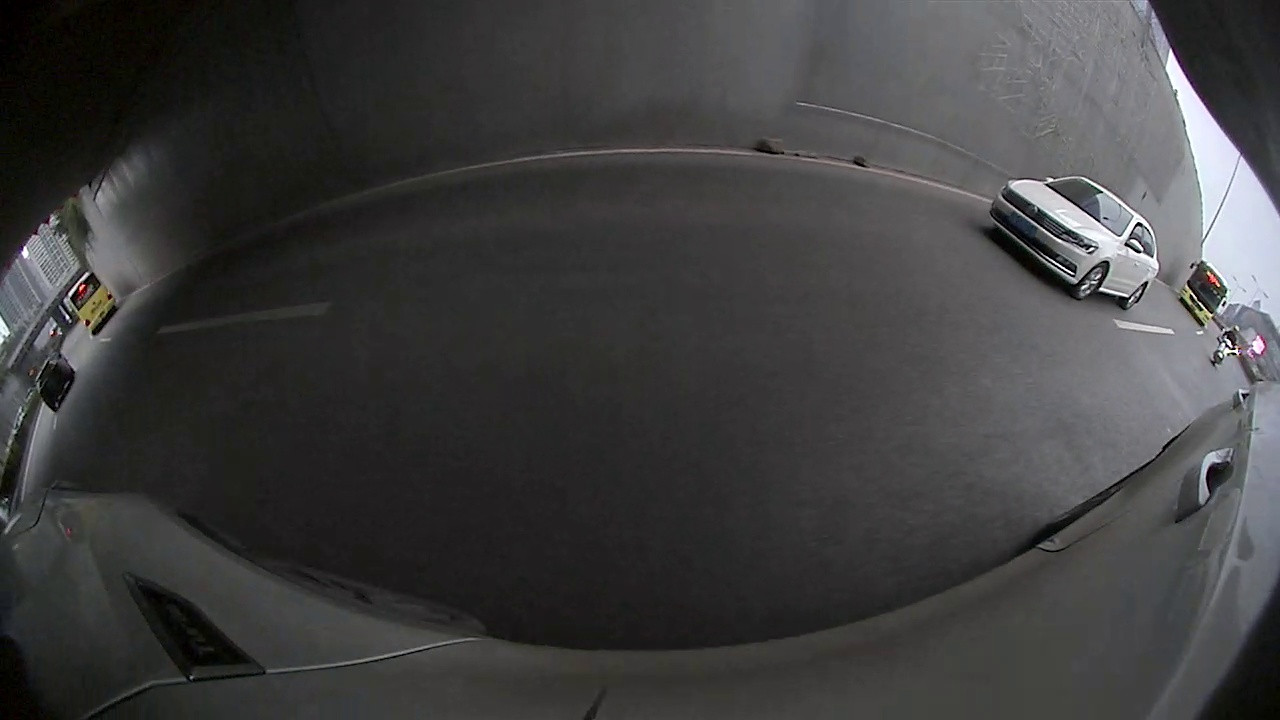bus: (63, 270, 118, 335), (1179, 257, 1228, 326)
car: (988, 176, 1159, 314), (34, 350, 78, 408)
front: (1069, 263, 1111, 306)
rear: (1121, 285, 1149, 314)
rider: (1209, 324, 1243, 365)
